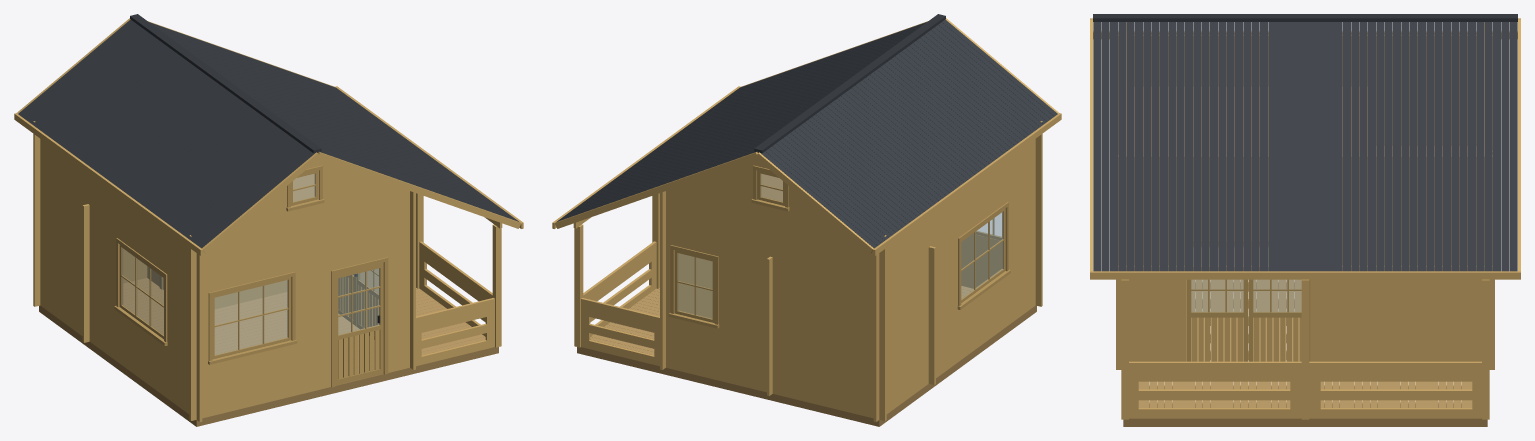
File: лука_4_5_44_мм_мезонин_терраса_сбоку.glb
The picture shows the model from 3 angles, left to right: view 1: azimuth 30°, elevation 25°; view 2: azimuth 150°, elevation 25°; view 3: azimuth 270°, elevation 25°; orthographic projection. The views are drawn at different scales.
Visible parts, largest first — view 1: walls, roof, floor, object 101, house, object 134, object 78, object 85, object 84, object 66, object 91, slab; view 2: walls, roof, house, object 134, object 123, floor, object 113, slab; view 3: roof, walls, floor, house, slab, object 33, object 15, object 20, object 3, object 24, object 21.
Boxes of the visible parts, <box> form: walls: <box>33,121,502,421</box>; roof: <box>14,14,523,255</box>; floor: <box>123,268,485,375</box>; object 101: <box>215,280,287,354</box>; house: <box>39,305,498,426</box>; object 134: <box>122,248,163,334</box>; object 78: <box>338,268,379,334</box>; object 85: <box>384,257,388,374</box>; object 84: <box>331,270,335,387</box>; object 66: <box>379,262,383,374</box>; object 91: <box>293,174,314,201</box>; slab: <box>293,174,314,201</box>; walls: <box>573,121,1042,421</box>; roof: <box>552,14,1061,255</box>; house: <box>577,305,1036,426</box>; object 134: <box>961,212,1002,298</box>; object 123: <box>678,253,712,318</box>; floor: <box>590,286,973,355</box>; object 113: <box>761,174,782,201</box>; slab: <box>761,174,782,201</box>; roof: <box>1090,14,1520,279</box>; walls: <box>1116,22,1494,419</box>; floor: <box>1138,248,1472,407</box>; house: <box>1123,282,1487,426</box>; slab: <box>1134,87,1476,154</box>; object 33: <box>1191,280,1243,311</box>; object 15: <box>1253,280,1301,311</box>; object 20: <box>1243,279,1248,361</box>; object 3: <box>1249,240,1253,361</box>; object 24: <box>1187,311,1248,317</box>; object 21: <box>1187,279,1191,361</box>.
Size of the model in its own units: 5.68 by 4.38 by 5.68.
